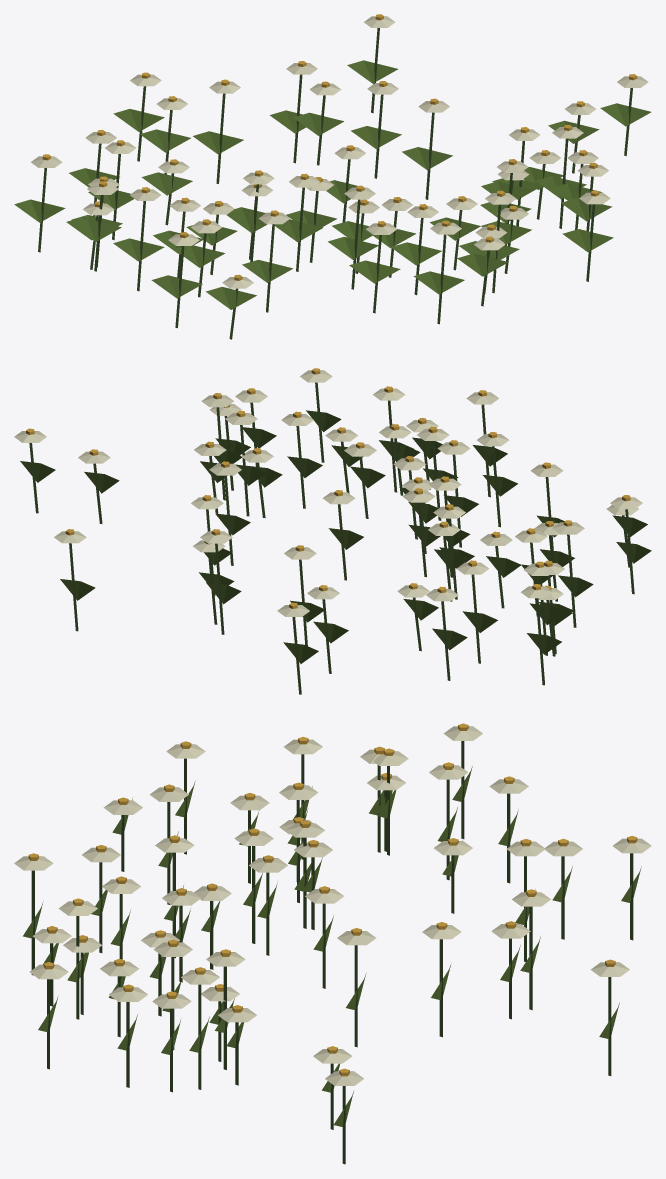
File: meadow_daisies.glb
The picture shows the model from 3 angles, top to bottom: view 1: azimuth 30°, elevation 25°; view 2: azimuth 150°, elevation 25°; view 3: azimuth 270°, elevation 25°; orthographic projection. The views are drawn at different scales.
Visible parts, largest first — view 1: meadow_daisies_body; view 2: meadow_daisies_body; view 3: meadow_daisies_body.
Part boxes in pixels (x1,y1,x2,y2): meadow_daisies_body: (14, 14, 651, 339); meadow_daisies_body: (14, 368, 651, 694); meadow_daisies_body: (14, 723, 651, 1164).
Size of the model in its own units: 6.7 by 1.11 by 5.14.
